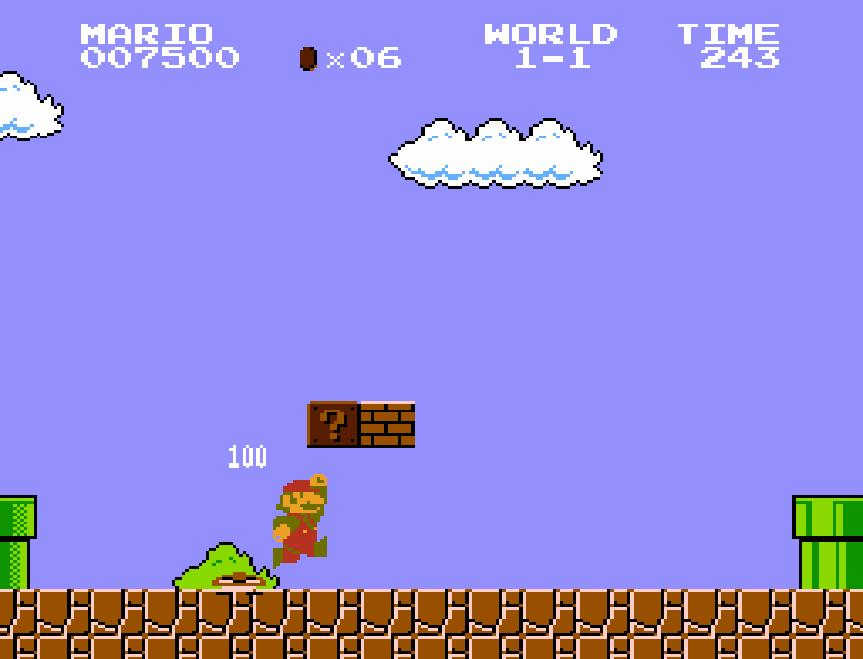big_mario: (270, 472, 328, 570)
